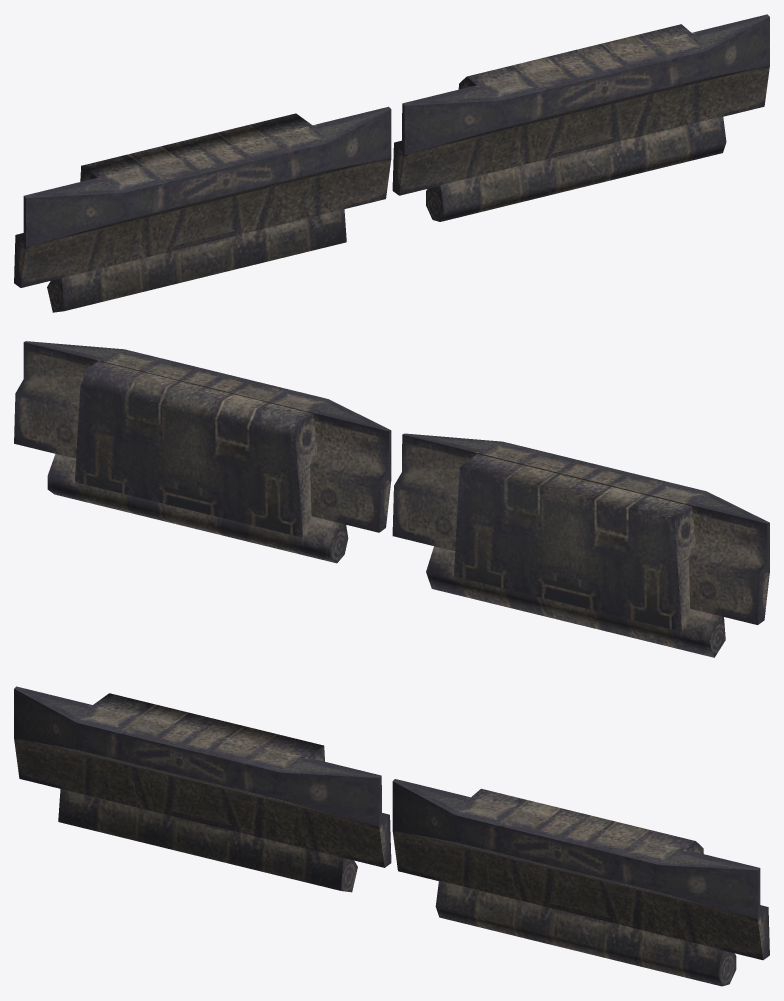
The picture shows the model from 3 angles, top to bottom: view 1: azimuth 30°, elevation 25°; view 2: azimuth 150°, elevation 25°; view 3: azimuth 330°, elevation 25°; orthographic projection.
Parts seen in each view (by area): view 1: set_0_group_0; view 2: set_0_group_0; view 3: set_0_group_0.
Boxes of the visible parts, bbox=[...] form: set_0_group_0: bbox=[14, 14, 769, 312]; set_0_group_0: bbox=[14, 341, 769, 657]; set_0_group_0: bbox=[14, 686, 769, 986].
Size of the model in its own units: 1.02 by 0.1781 by 0.091.
1 material, 1 textured.
